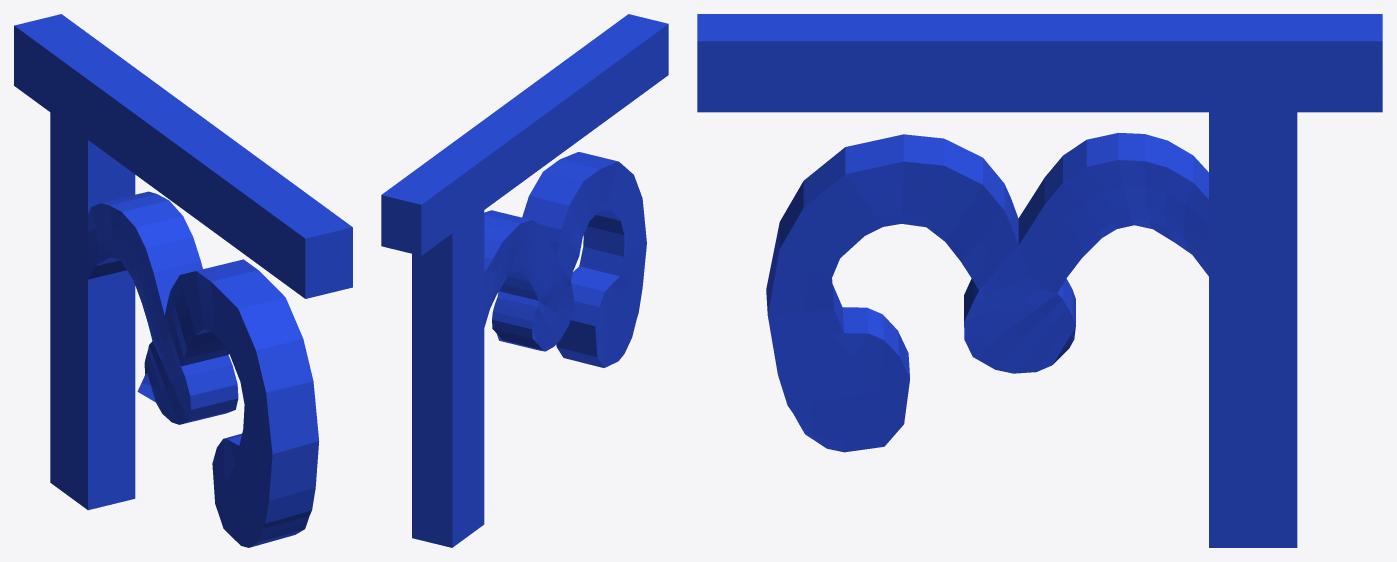
3 renders of one model, left to right at view 1: azimuth 30°, elevation 25°; view 2: azimuth 150°, elevation 25°; view 3: azimuth 270°, elevation 25°, orthographic. The views are drawn at different scales.
Parts seen in each view (by area): view 1: Cube; view 2: Cube; view 3: Cube.
Part boxes in pixels (left/top/right/bottom): Cube: left=14, top=14, right=352, bottom=547; Cube: left=381, top=14, right=668, bottom=547; Cube: left=697, top=14, right=1382, bottom=547.
Size of the model in its own units: 248 by 1736 by 2129.
